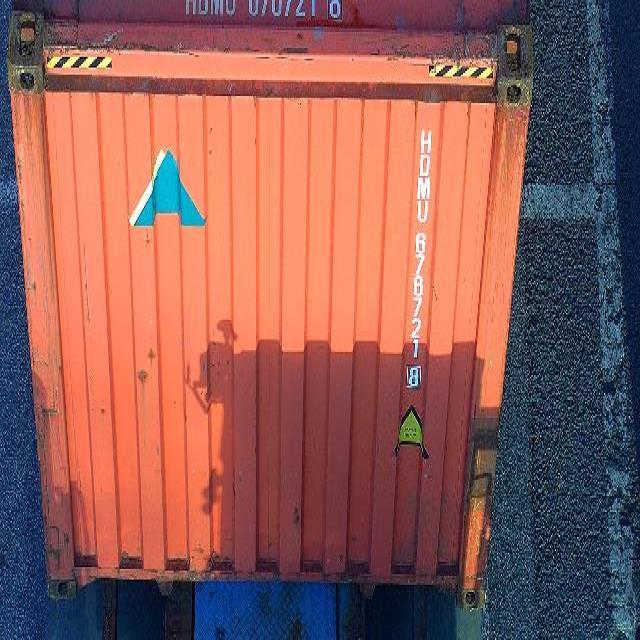container_number: (406, 115, 434, 399)
